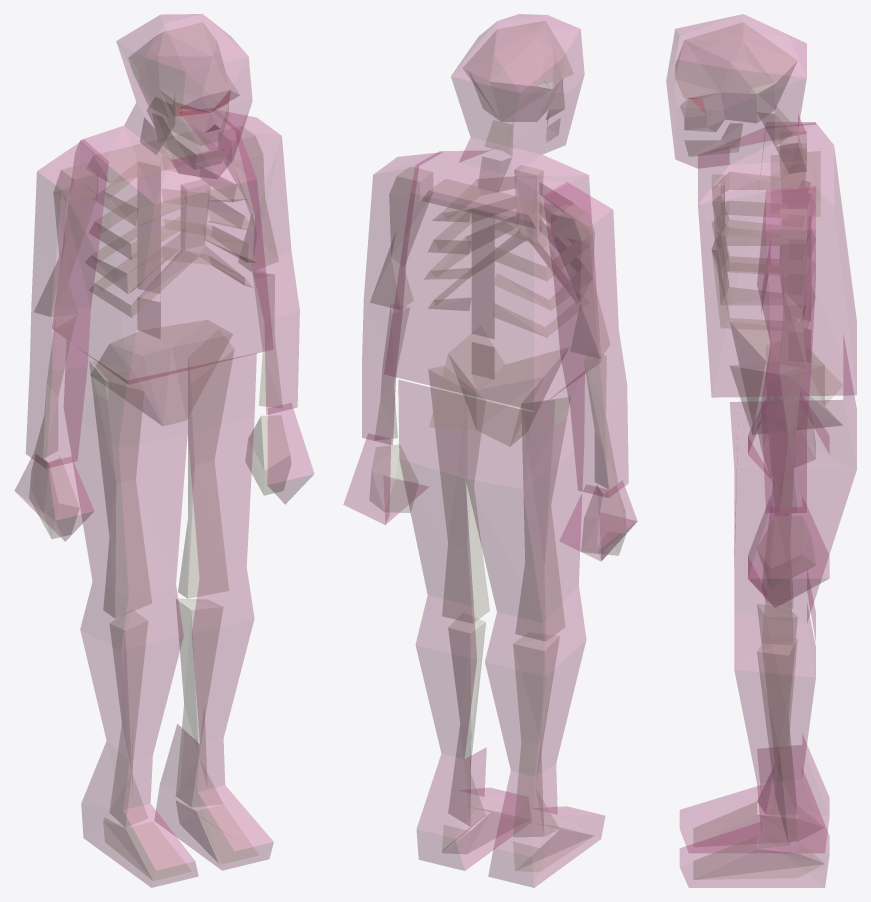
Rendered from ankou.glb.
The picture shows the model from 3 angles, left to right: view 1: azimuth 30°, elevation 25°; view 2: azimuth 150°, elevation 25°; view 3: azimuth 270°, elevation 25°; orthographic projection. The views are drawn at different scales.
Bounding box in the file's own units: 66 × 203 × 42.
1 material, 1 textured.
